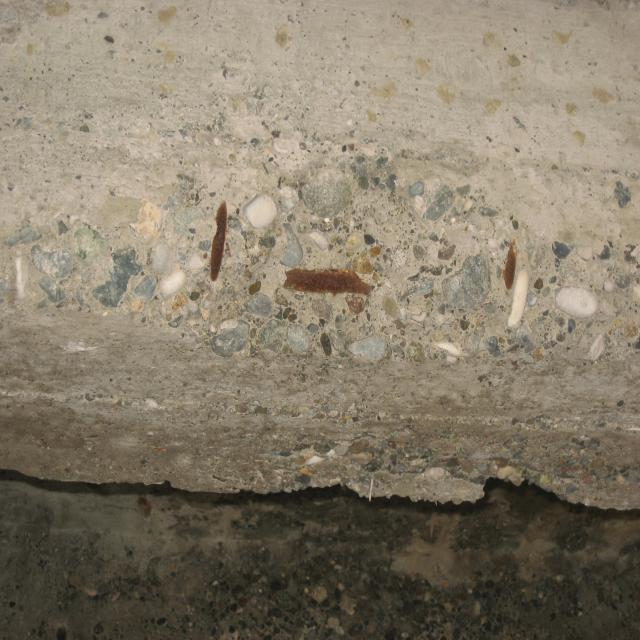corrosion: (278, 251, 387, 306), (205, 185, 237, 290), (493, 234, 525, 293)
